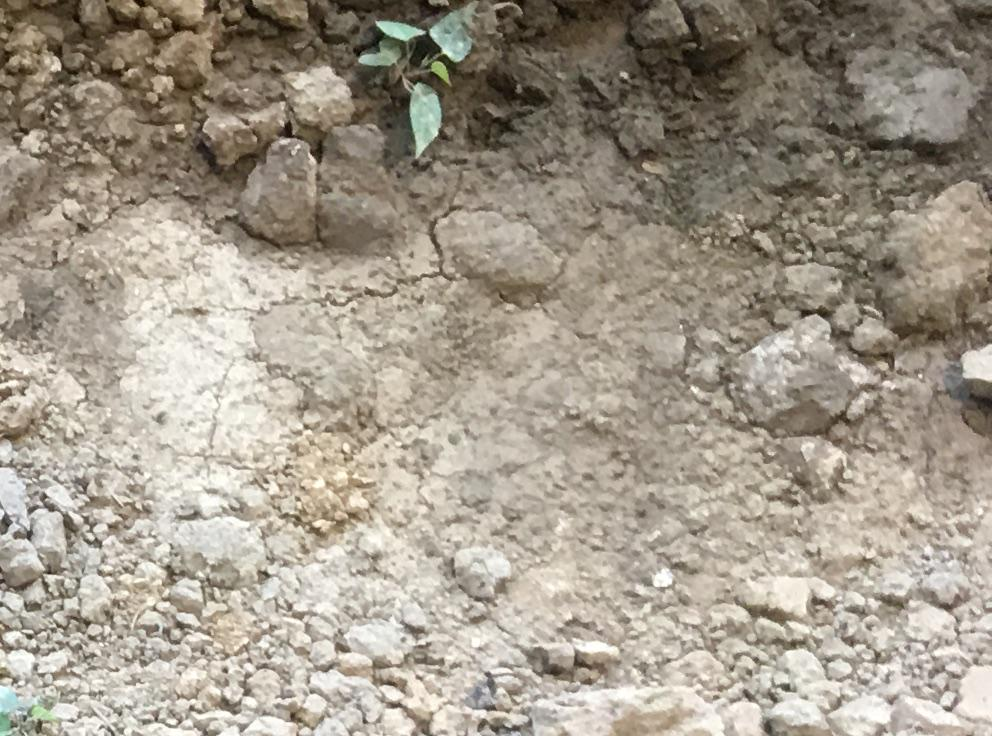block: (721, 312, 852, 442), (879, 182, 986, 328), (236, 136, 316, 249)
